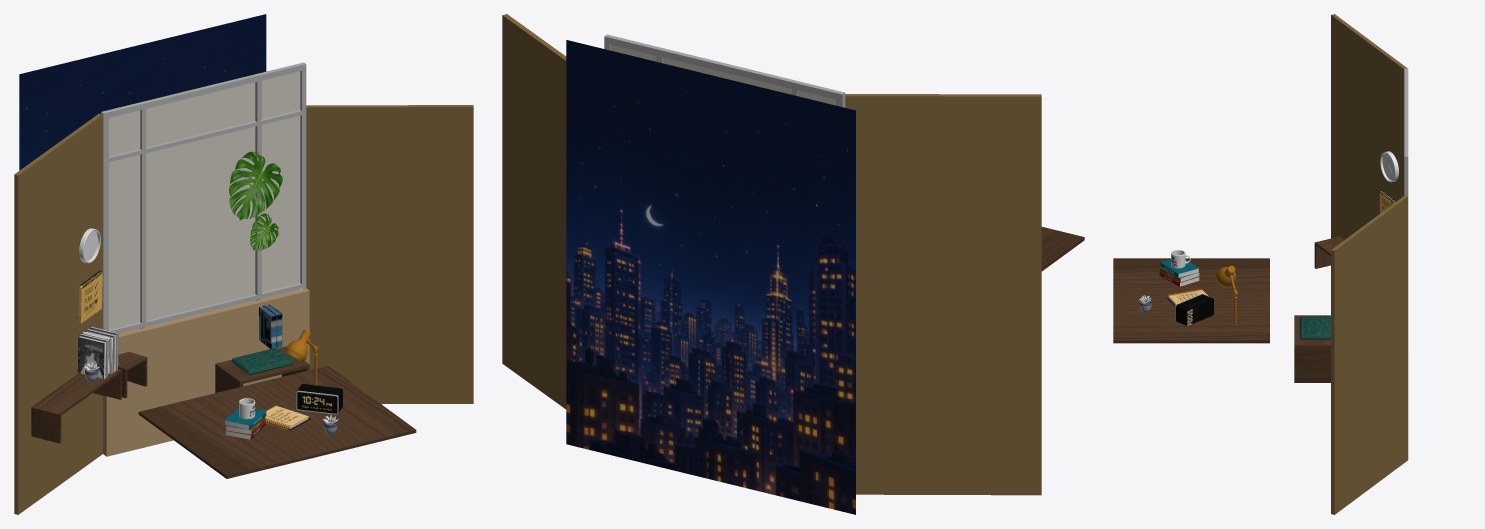
The model's file is enviroment.fbx.
The picture shows the model from 3 angles, left to right: view 1: azimuth 30°, elevation 25°; view 2: azimuth 150°, elevation 25°; view 3: azimuth 270°, elevation 25°; orthographic projection. The views are drawn at different scales.
Parts seen in each view (by area): view 1: Plane.001, glass, Plane.002, ChatGPT Image Sep 15, 2026, 02_03_17 PM, Cube.002, Plane.003, Plane, Cube, pngwing.com, Cube.001, clock, Cover book-01.005 (+8 smaller); view 2: ChatGPT Image Sep 15, 2026, 02_03_17 PM, Plane.002, Plane.001, Plane, glass, Cube.002; view 3: Plane.001, Plane.002, Cube.002, Cube.001, clock, Plane, Cover book-02, Cube.004, Cube, Circle.005.
Part boxes in pixels (x1,y1,x2,y2): Plane.001: (306, 105, 473, 404); glass: (109, 71, 300, 333); Plane.002: (14, 113, 102, 514); ChatGPT Image Sep 15, 2026, 02_03_17 PM: (19, 14, 266, 328); Cube.002: (138, 365, 416, 478); Plane.003: (103, 288, 309, 456); Plane: (101, 62, 306, 333); Cube: (31, 369, 121, 443); pngwing.com: (229, 151, 282, 220); Cube.001: (215, 346, 309, 392); clock: (296, 384, 342, 414); Cover book-01.005: (77, 333, 108, 378); ChatGPT Image Sep 15, 2026, 02_03_17 PM: (566, 40, 855, 514); Plane.002: (845, 94, 1041, 495); Plane.001: (502, 14, 566, 409); Plane: (604, 34, 845, 107); glass: (610, 44, 835, 105); Cube.002: (1041, 227, 1084, 271); Plane.001: (1331, 195, 1407, 514); Plane.002: (1331, 14, 1407, 239); Cube.002: (1113, 258, 1269, 343); Cube.001: (1294, 315, 1330, 382); clock: (1175, 293, 1213, 325); Plane: (1404, 68, 1408, 355); Cover book-02: (1159, 259, 1199, 286); Cube.004: (1299, 316, 1330, 339); Cube: (1314, 236, 1344, 268); Circle.005: (1380, 151, 1398, 182).
Bounding box in the file's own units: 1298 × 983 × 984.
29 materials, 13 textured.
